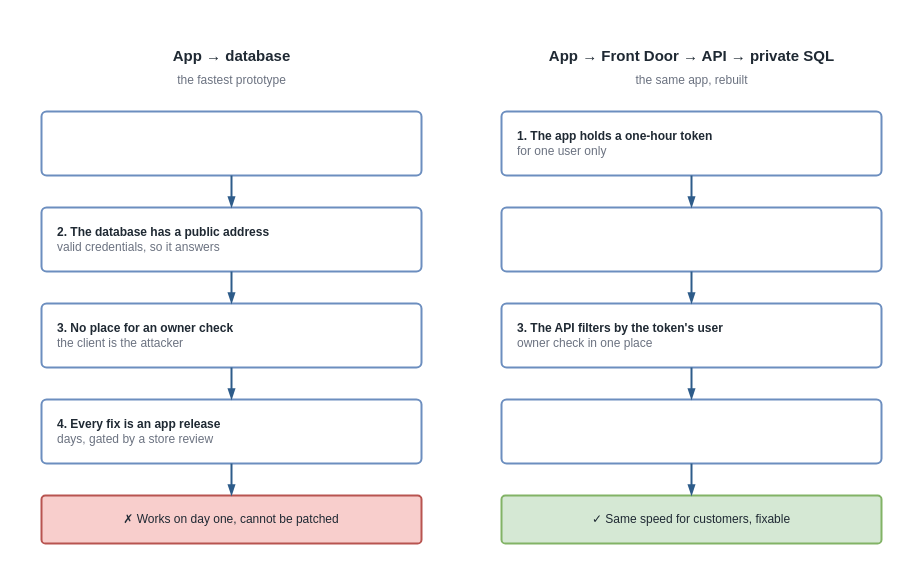
Image size: 922x584. Some labels were removed from this diagram. Each missing label, with the centre of its shape:
"1. The app holds a connection string password included" goes at pixel 231 143.
"2. The database has no public address publicNetworkAccess Disabled" goes at pixel 691 239.
"4. Every fix is a server change minutes, under your control" goes at pixel 691 431.
